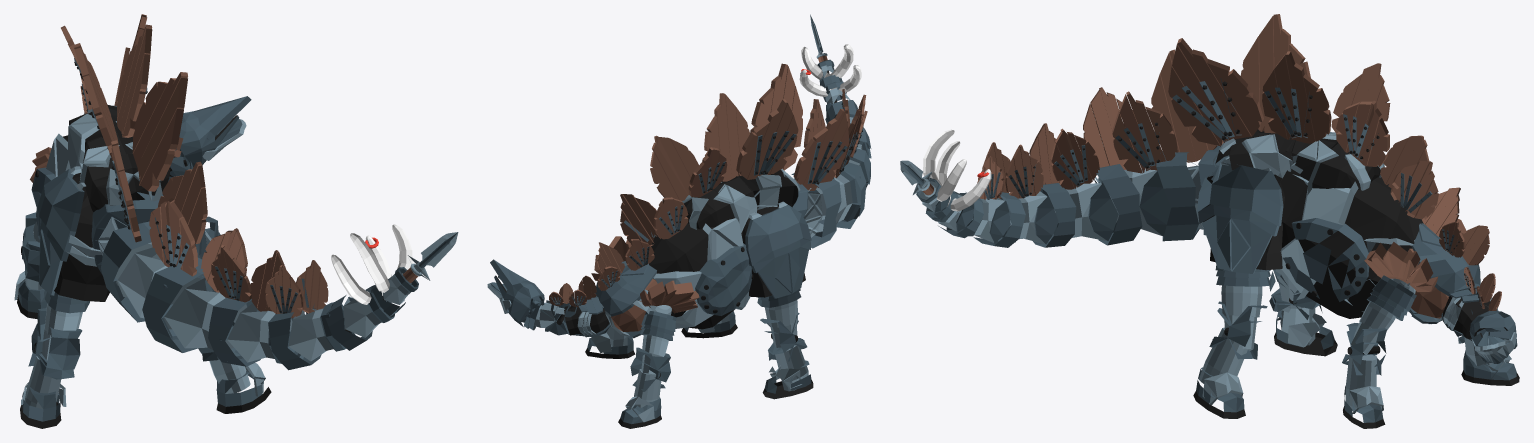
Rendered from stegoknight.glb.
3 views of the same model, side by side, from view 1: azimuth 30°, elevation 25°; view 2: azimuth 150°, elevation 25°; view 3: azimuth 270°, elevation 25° (orthographic). The views are drawn at different scales.
Parts seen in each view (by area): view 1: group768443426, group671374940, group889967663, group325908748, group1564832822, group547150215, group639811647, group1634408077, group1846546652, group13152915, group1012420290, group699810588 (+24 smaller); view 2: group2070727005, group768443426, group1707670631, group1919339481, group1835902399, group1803932194, group284086628, group13152915, group325908748, group1634408077, group889967663, group639811647 (+34 smaller); view 3: group2070727005, group2138699863, group889967663, group671374940, group325908748, group13152915, group1207081446, group1803932194, group1919339481, group1564832822, group284086628, group1707670631 (+40 smaller).
Part boxes in pixels (left/top/right/bottom): group768443426: left=37, top=166, right=109, bottom=301; group671374940: left=142, top=257, right=259, bottom=361; group889967663: left=132, top=72, right=187, bottom=191; group325908748: left=100, top=221, right=214, bottom=339; group1564832822: left=208, top=297, right=300, bottom=366; group547150215: left=268, top=302, right=354, bottom=370; group639811647: left=79, top=130, right=170, bottom=211; group1634408077: left=179, top=96, right=251, bottom=167; group1846546652: left=149, top=198, right=198, bottom=276; group13152915: left=117, top=24, right=152, bottom=137; group1012420290: left=325, top=285, right=394, bottom=350; group699810588: left=28, top=308, right=82, bottom=379; group2070727005: left=649, top=218, right=753, bottom=329; group768443426: left=742, top=201, right=811, bottom=298; group1707670631: left=736, top=99, right=798, bottom=179; group1919339481: left=595, top=261, right=657, bottom=338; group1835902399: left=793, top=108, right=849, bottom=190; group1803932194: left=682, top=177, right=757, bottom=232; group284086628: left=650, top=135, right=698, bottom=200; group13152915: left=704, top=93, right=749, bottom=181; group325908748: left=791, top=171, right=861, bottom=248; group1634408077: left=487, top=259, right=544, bottom=322; group889967663: left=750, top=63, right=802, bottom=170; group639811647: left=736, top=169, right=800, bottom=209; group2070727005: left=1280, top=162, right=1423, bottom=318; group2138699863: left=1197, top=156, right=1284, bottom=273; group889967663: left=1168, top=38, right=1263, bottom=145; group671374940: left=1040, top=164, right=1142, bottom=245; group325908748: left=1098, top=151, right=1199, bottom=241; group13152915: left=1262, top=51, right=1331, bottom=143; group1207081446: left=1112, top=91, right=1177, bottom=173; group1803932194: left=1285, top=132, right=1382, bottom=194; group1919339481: left=1407, top=223, right=1480, bottom=324; group1564832822: left=998, top=183, right=1076, bottom=247; group284086628: left=1336, top=100, right=1389, bottom=166; group1707670631: left=1240, top=14, right=1310, bottom=133.
Size of the model in its own units: 0.6312 by 0.6873 by 1.13.
